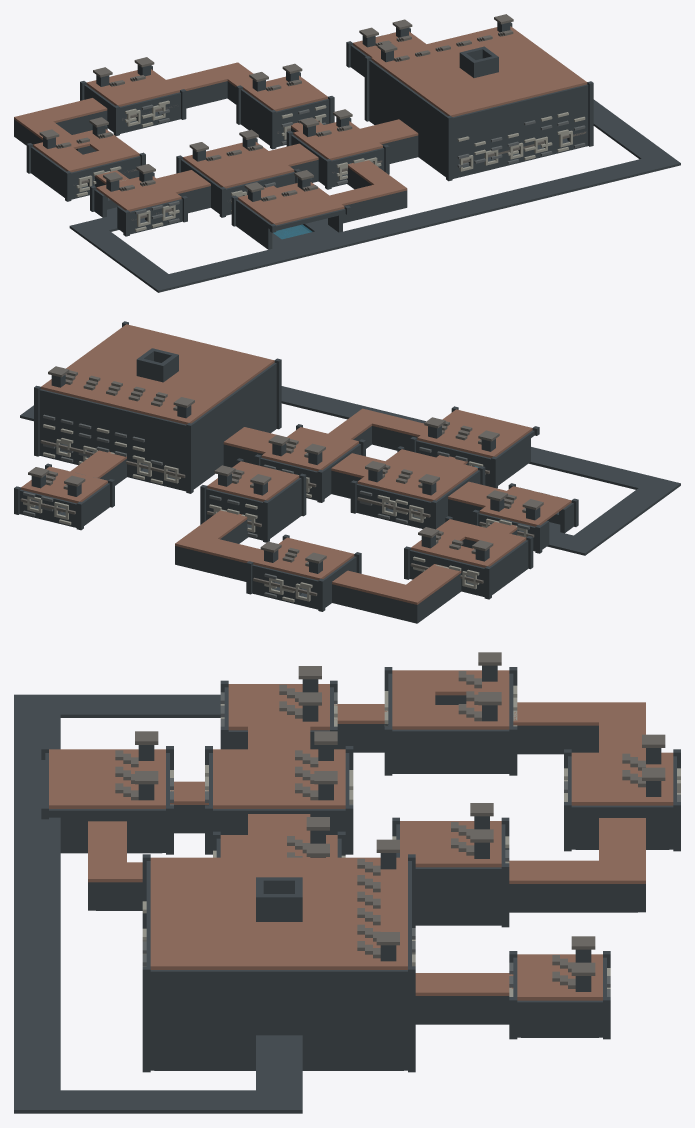
The model's file is geothermal_foundry.glb.
3 renders of one model, top to bottom at view 1: azimuth 30°, elevation 25°; view 2: azimuth 150°, elevation 25°; view 3: azimuth 270°, elevation 25°, orthographic. The views are drawn at different scales.
Parts seen in each view (by area): view 1: geothermal_foundry/room_walls, geothermal_foundry/floor_mesh, geothermal_foundry/roof_arena, geothermal_foundry/exterior_details, geothermal_foundry/corridor_walls, geothermal_foundry/roof_workshop, geothermal_foundry/roof_cistern, geothermal_foundry/roof_production, geothermal_foundry/roof_slag_store, geothermal_foundry/roof_antechamber, geothermal_foundry/roof_heat_intake, geothermal_foundry/roof_entrance (+9 smaller); view 2: geothermal_foundry/room_walls, geothermal_foundry/roof_arena, geothermal_foundry/exterior_details, geothermal_foundry/floor_mesh, geothermal_foundry/corridor_walls, geothermal_foundry/roof_workshop, geothermal_foundry/roof_cistern, geothermal_foundry/roof_production, geothermal_foundry/roof_slag_store, geothermal_foundry/roof_antechamber, geothermal_foundry/roof_heat_intake, geothermal_foundry/roof_entrance (+11 smaller); view 3: geothermal_foundry/room_walls, geothermal_foundry/floor_mesh, geothermal_foundry/roof_arena, geothermal_foundry/corridor_walls, geothermal_foundry/exterior_details, geothermal_foundry/roof_workshop, geothermal_foundry/roof_cistern, geothermal_foundry/roof_production, geothermal_foundry/roof_slag_store, geothermal_foundry/roof_heat_intake, geothermal_foundry/roof_entrance, geothermal_foundry/roof_archive (+12 smaller).
Boxes of the visible parts, x1=… form: geothermal_foundry/room_walls: x1=31, y1=45, x2=588, y2=249; geothermal_foundry/floor_mesh: x1=69, y1=99, x2=680, y2=292; geothermal_foundry/roof_arena: x1=371, y1=14, x2=587, y2=116; geothermal_foundry/exterior_details: x1=26, y1=22, x2=593, y2=236; geothermal_foundry/corridor_walls: x1=14, y1=81, x2=418, y2=223; geothermal_foundry/roof_workshop: x1=183, y1=129, x2=294, y2=188; geothermal_foundry/roof_cistern: x1=238, y1=170, x2=344, y2=225; geothermal_foundry/roof_production: x1=33, y1=117, x2=139, y2=172; geothermal_foundry/roof_slag_store: x1=86, y1=57, x2=179, y2=106; geothermal_foundry/roof_antechamber: x1=293, y1=109, x2=382, y2=160; geothermal_foundry/roof_heat_intake: x1=243, y1=63, x2=327, y2=111; geothermal_foundry/roof_entrance: x1=96, y1=164, x2=181, y2=211; geothermal_foundry/room_walls: x1=19, y1=362, x2=573, y2=609; geothermal_foundry/roof_arena: x1=41, y1=324, x2=274, y2=424; geothermal_foundry/exterior_details: x1=14, y1=321, x2=578, y2=611; geothermal_foundry/floor_mesh: x1=20, y1=386, x2=680, y2=594; geothermal_foundry/corridor_walls: x1=100, y1=426, x2=518, y2=623; geothermal_foundry/roof_workshop: x1=357, y1=449, x2=477, y2=501; geothermal_foundry/roof_cistern: x1=417, y1=409, x2=532, y2=457; geothermal_foundry/roof_production: x1=411, y1=519, x2=526, y2=567; geothermal_foundry/roof_slag_store: x1=253, y1=537, x2=354, y2=580; geothermal_foundry/roof_antechamber: x1=261, y1=427, x2=358, y2=471; geothermal_foundry/roof_heat_intake: x1=207, y1=461, x2=299, y2=501; geothermal_foundry/roof_entrance: x1=479, y1=486, x2=571, y2=526; geothermal_foundry/room_walls: x1=45, y1=673, x2=676, y2=1070; geothermal_foundry/floor_mesh: x1=14, y1=694, x2=668, y2=1113; geothermal_foundry/roof_arena: x1=150, y1=839, x2=407, y2=969; geothermal_foundry/corridor_walls: x1=88, y1=724, x2=645, y2=1024; geothermal_foundry/exterior_details: x1=41, y1=667, x2=680, y2=1072; geothermal_foundry/roof_workshop: x1=213, y1=731, x2=345, y2=808; geothermal_foundry/roof_cistern: x1=49, y1=731, x2=165, y2=808; geothermal_foundry/roof_production: x1=392, y1=652, x2=509, y2=729; geothermal_foundry/roof_slag_store: x1=571, y1=734, x2=673, y2=805; geothermal_foundry/roof_heat_intake: x1=400, y1=803, x2=501, y2=867; geothermal_foundry/roof_entrance: x1=228, y1=666, x2=329, y2=730; geothermal_foundry/roof_archive: x1=517, y1=936, x2=602, y2=1000.
Bounding box in the file's own units: 126 × 19.5 × 85.5.
